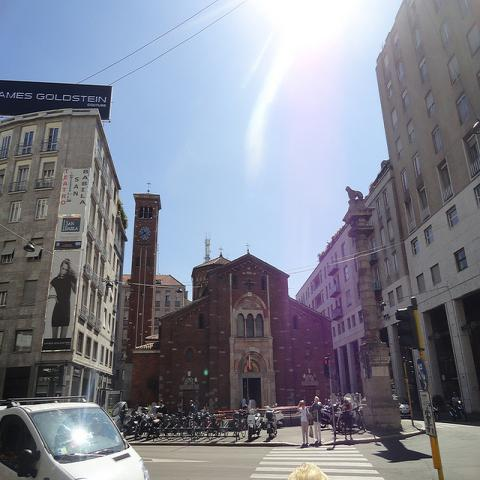car: (0, 402, 148, 475)
motorcycle: (242, 400, 261, 441), (446, 399, 467, 422), (133, 411, 148, 441), (144, 415, 162, 439), (121, 414, 139, 438), (320, 403, 334, 428), (265, 409, 277, 438), (333, 393, 342, 431), (433, 406, 440, 420)
